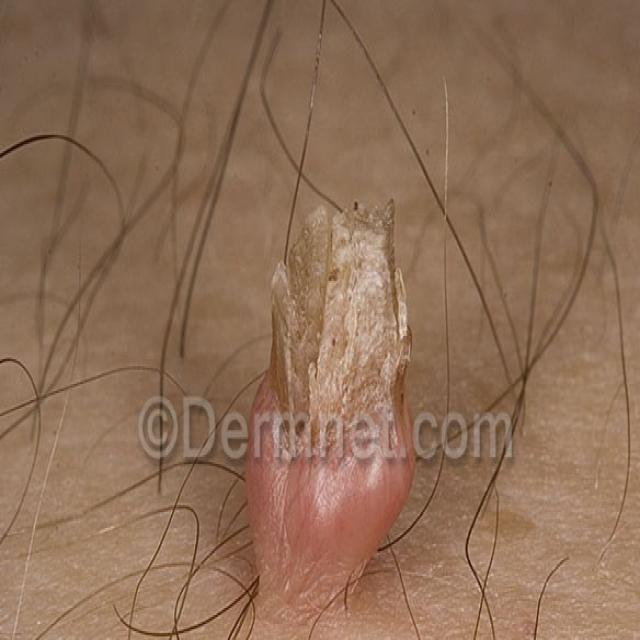Warts: (195, 193, 482, 637)
